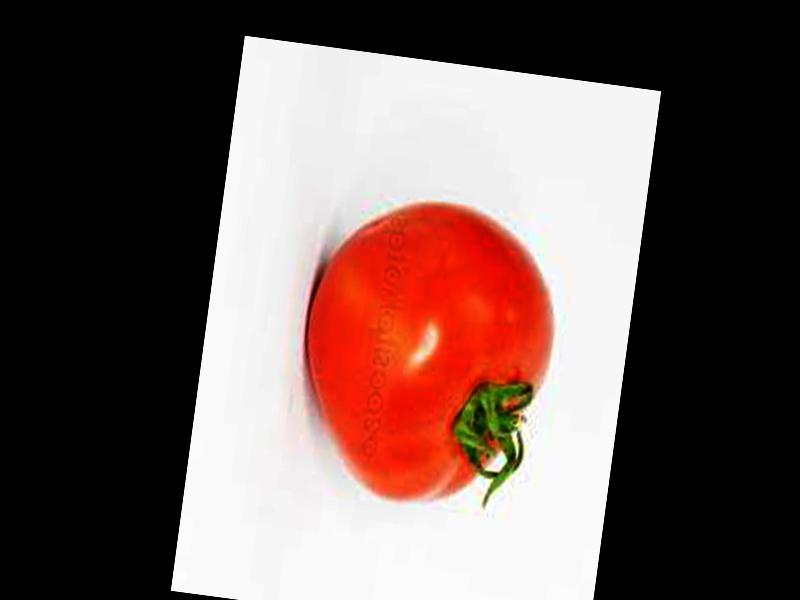Tomato: (287, 188, 572, 518)
